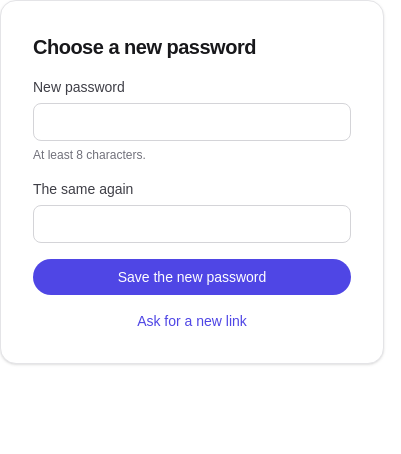
it: choosing a new password with the link › keeps the token while the link didn't work, and says so
Step 1. Type "a new long password" into the password field labelled "New password" → (192,122), box [33,103,351,141]
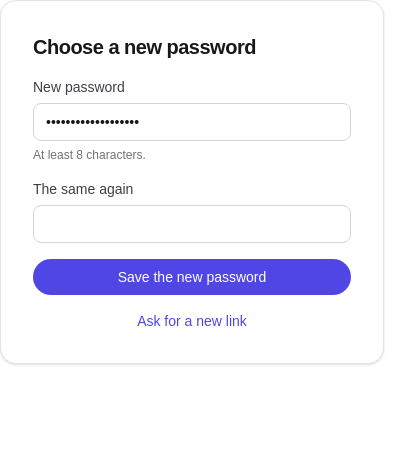
Step 2. Type "a new long password" into the password field labelled "The same again" → (192,224), box [33,205,351,243]
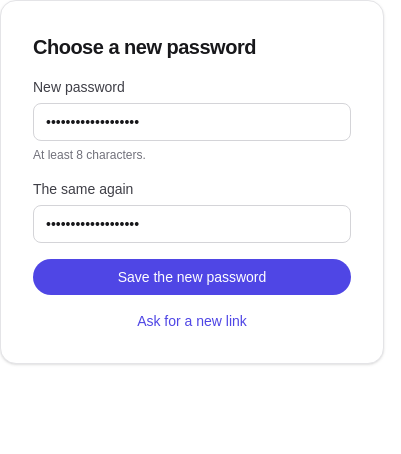
Step 3. Click the button "Save the new password" → (192,277), box [33,259,351,295]
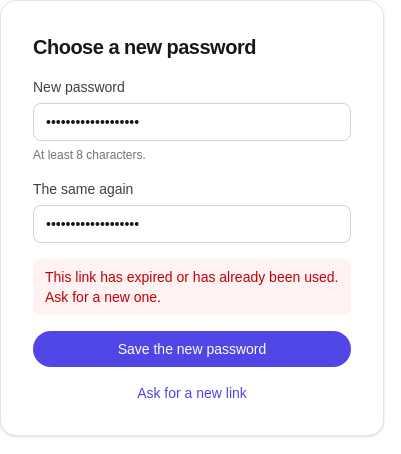
Check: the message shows "This link has expired or has already been used.", box [45,269,338,305]
